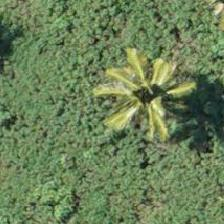coconut_tree: (101, 41, 191, 131)
